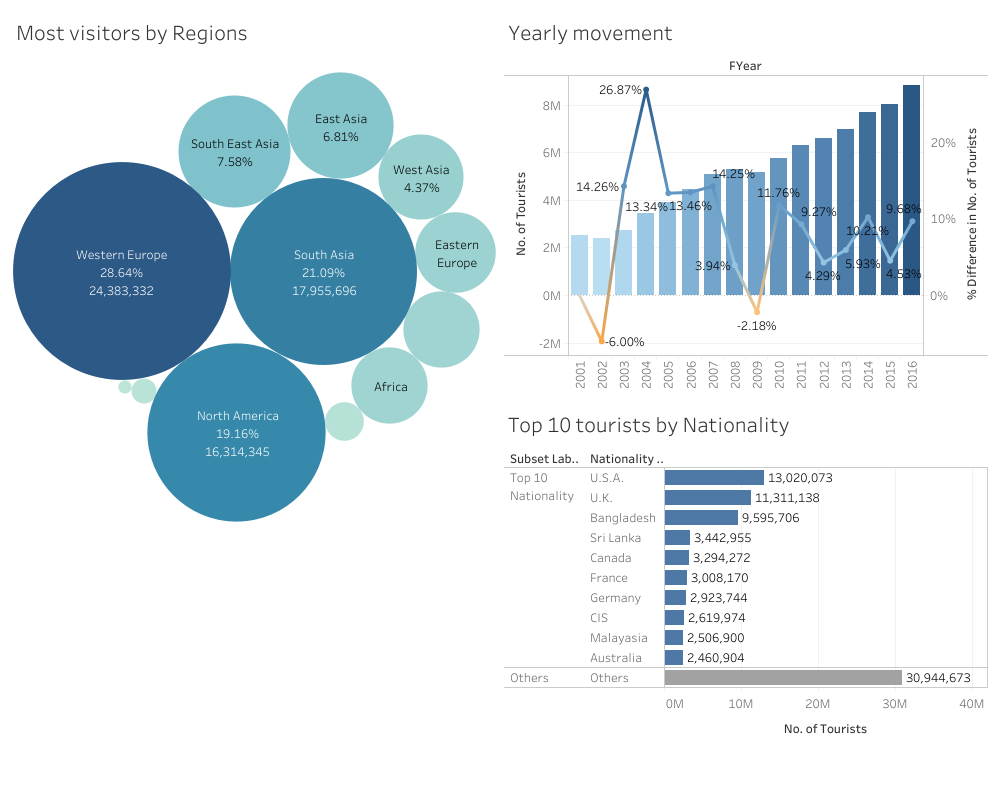

Layout of this report page (visuals, bound fields, positions):
{"tool":"tableau","page":{"name":"My Dashboard","canvas":[1000,800],"ordinal":0},"visuals":[{"type":"worksheet","box":[0,0,1000,800]},{"type":"worksheet","param":"horz","box":[8,8,984,784]},{"type":"worksheet","box":[8,8,984,784]},{"type":"worksheet","title":"Most visitors by Regions","mark":"Circle","box":[8,8,492,784]},{"type":"worksheet","title":"Yearly movement","mark":"Automatic","rows":["Pivot Field Values","Pivot Field Values"],"cols":["Pivot Field Names"],"box":[500,8,492,392]},{"type":"worksheet","title":"Top N","mark":"Automatic","rows":["Top N tourists by Nationality","Calculation_531143316762120196","Calculation_531143316763508741"],"cols":["Pivot Field Values"],"box":[500,400,492,392]}]}

Visuals, with their boxes in screenshot pixels (x1, y1, x2, y2), scaled from the page's 1000x800 canvas onto the 999x799 screenshot:
worksheet: BBox(0, 0, 998, 798)
worksheet: BBox(8, 8, 991, 791)
worksheet: BBox(8, 8, 991, 791)
"Most visitors by Regions" worksheet (Circle marks): BBox(8, 8, 500, 791)
"Yearly movement" worksheet: BBox(500, 8, 991, 400)
"Top N" worksheet: BBox(500, 400, 991, 791)
